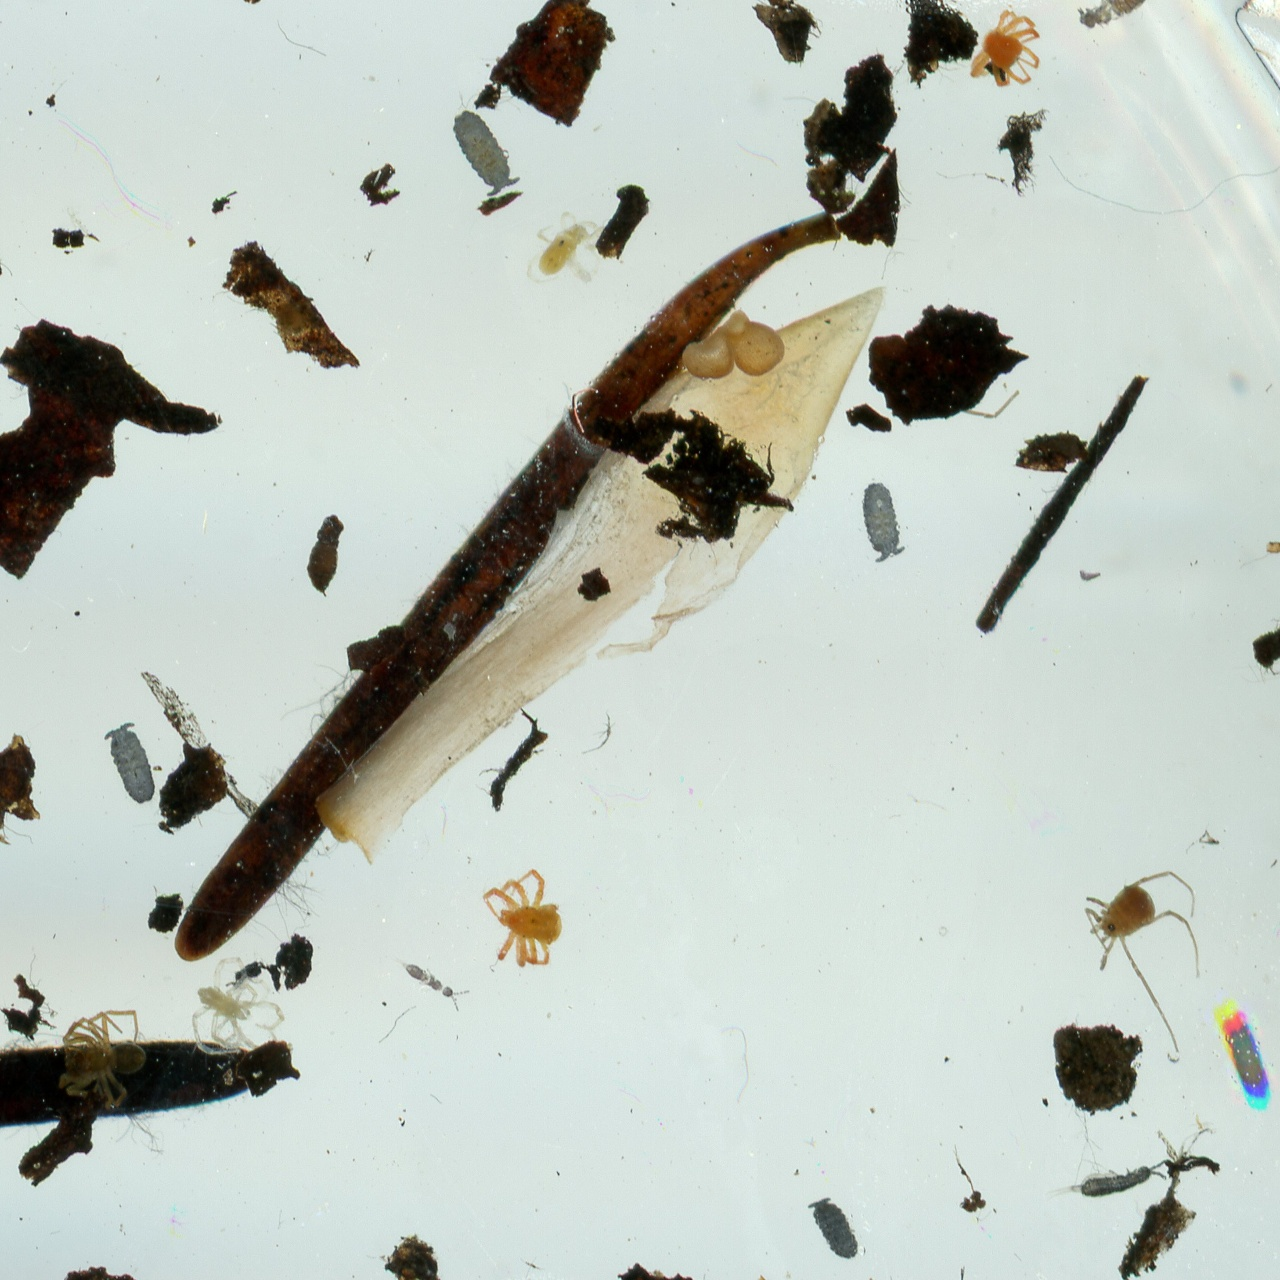arthropod: (1058, 844, 1268, 1088), (960, 0, 1062, 108), (57, 1007, 150, 1117), (190, 953, 287, 1057), (438, 96, 529, 207), (481, 866, 564, 969), (1035, 1152, 1182, 1207), (520, 200, 605, 294), (1206, 1001, 1280, 1107), (380, 944, 476, 1017), (97, 716, 165, 811), (850, 476, 918, 567), (1067, 0, 1201, 45), (799, 1189, 869, 1272)
